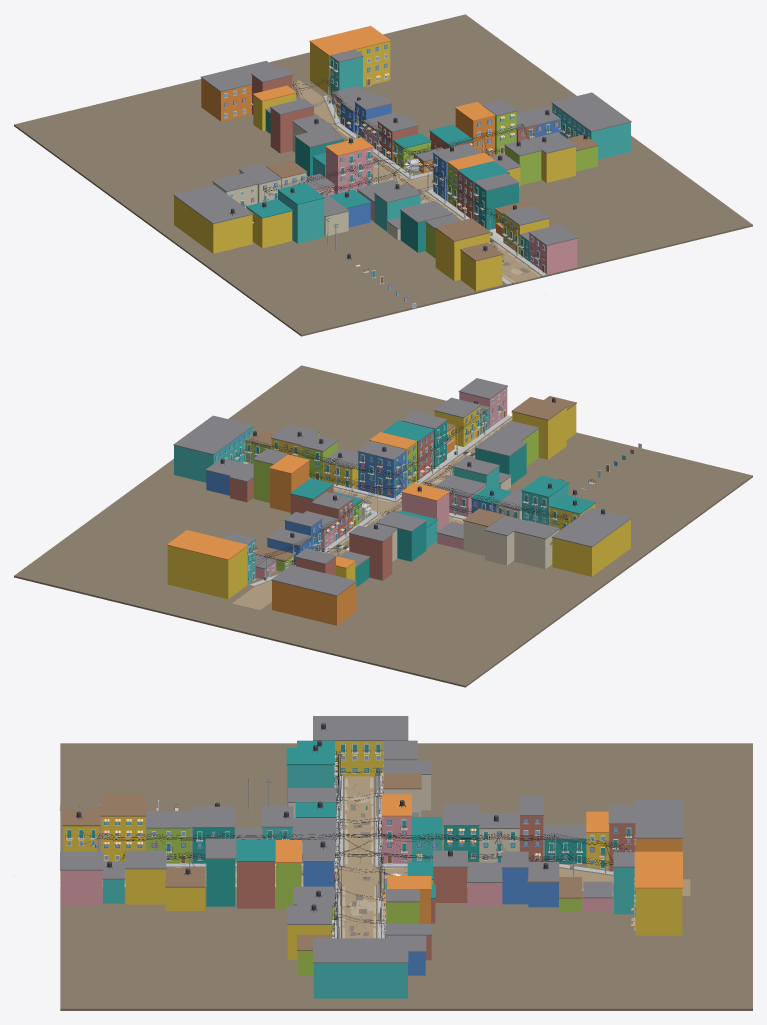
The model's file is IndianStreet_Phase1.fbx.
The picture shows the model from 3 angles, top to bottom: view 1: azimuth 30°, elevation 25°; view 2: azimuth 150°, elevation 25°; view 3: azimuth 270°, elevation 25°; orthographic projection. The views are drawn at different scales.
Visible parts, largest first — view 1: Ground_Fill, Bld_End_AL_StyleD, Bld_End_MR_StyleB, Cables_PoleToPole, Bld_End_AR_Roof, Bld_End_AL_Roof, Bld_End_AR_StyleE, Bld_NL_01_StyleC, Bld_AL_S_02_StyleD, Bld_End_ML_StyleA, Bld_SR_01_StyleA, Bld_End_MR_Roof (+28 smaller); view 2: Ground_Fill, Bld_End_MR_StyleB, Bld_End_ML_StyleA, Bld_End_AL_StyleD, Cables_PoleToPole, Bld_End_AR_Roof, Bld_End_AL_Roof, Bld_End_AR_StyleE, Bld_SR_08_StyleC, Bld_End_ML_Roof, Bld_SL_02_StyleF, Bld_End_MR_Roof (+28 smaller); view 3: Ground_Fill, Cables_PoleToPole, Bld_End_AR_StyleE, Bld_End_AR_Roof, Bld_End_AL_Roof, Bld_End_MR_StyleB, CrossRoad_Left, Bld_End_ML_Roof, Bld_End_MR_Roof, Bld_SR_06_StyleB, Bld_SR_01_StyleA, Bld_SR_03_StyleE (+68 smaller).
Part boxes in pixels (x1,y1,x2,y2): Ground_Fill: [14, 14, 752, 336]; Bld_End_AL_StyleD: [174, 196, 252, 253]; Bld_End_MR_StyleB: [310, 41, 390, 94]; Cables_PoleToPole: [263, 77, 573, 245]; Bld_End_AR_Roof: [551, 92, 631, 131]; Bld_End_AL_Roof: [173, 184, 253, 224]; Bld_End_AR_StyleE: [552, 104, 630, 159]; Bld_NL_01_StyleC: [326, 148, 373, 193]; Bld_AL_S_02_StyleD: [278, 191, 324, 243]; Bld_End_ML_StyleA: [201, 78, 251, 121]; Bld_SR_01_StyleA: [529, 233, 577, 274]; Bld_End_MR_Roof: [309, 26, 390, 56]; Ground_Fill: [14, 365, 752, 687]; Bld_End_MR_StyleB: [167, 546, 247, 598]; Bld_End_ML_StyleA: [272, 580, 356, 625]; Bld_End_AL_StyleD: [552, 519, 630, 576]; Cables_PoleToPole: [250, 408, 569, 564]; Bld_End_AR_Roof: [173, 415, 253, 454]; Bld_End_AL_Roof: [551, 508, 631, 547]; Bld_End_AR_StyleE: [174, 427, 252, 482]; Bld_SR_08_StyleC: [358, 451, 406, 498]; Bld_End_ML_Roof: [271, 565, 356, 596]; Bld_SL_02_StyleF: [512, 407, 566, 459]; Bld_End_MR_Roof: [167, 530, 248, 560]; Ground_Fill: [60, 743, 752, 1010]; Cables_PoleToPole: [99, 751, 624, 937]; Bld_End_AR_StyleE: [313, 963, 407, 998]; Bld_End_AR_Roof: [313, 938, 408, 963]; Bld_End_AL_Roof: [313, 716, 408, 740]; Bld_End_MR_StyleB: [635, 888, 682, 935]; CrossRoad_Left: [344, 776, 373, 867]; Bld_End_ML_Roof: [634, 799, 682, 838]; Bld_End_MR_Roof: [634, 851, 682, 888]; Bld_SR_06_StyleB: [237, 862, 274, 908]; Bld_SR_01_StyleA: [60, 870, 102, 905]; Bld_SR_03_StyleE: [125, 869, 165, 904].
Size of the model in its own units: 16000 by 1614 by 18823.
